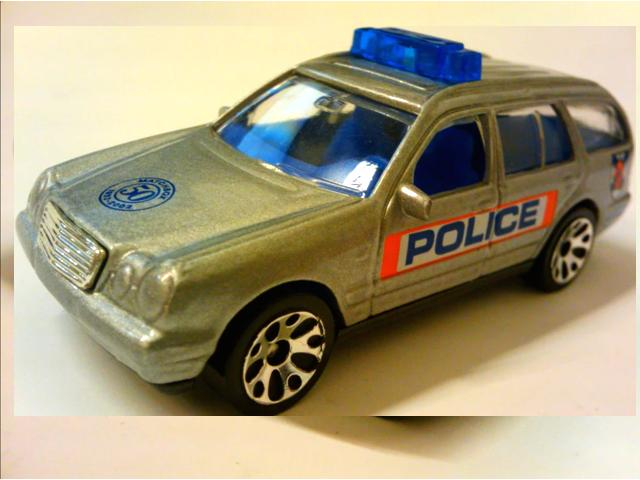toy-car: (13, 26, 635, 416)
